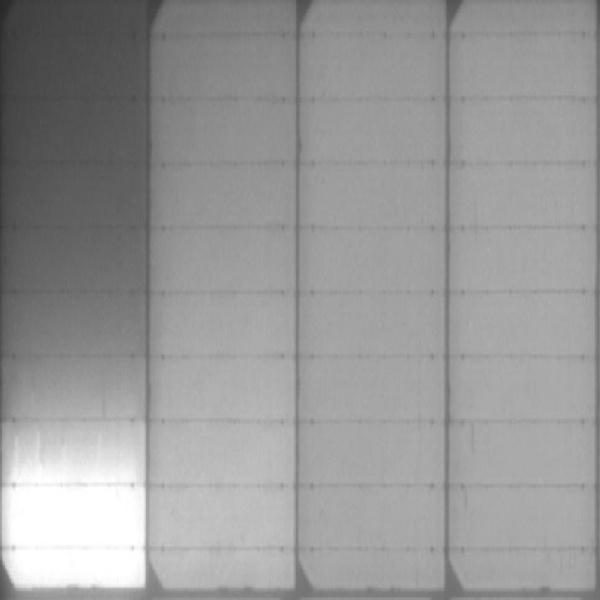hot_spot: (13, 486, 142, 544), (13, 547, 139, 585)
